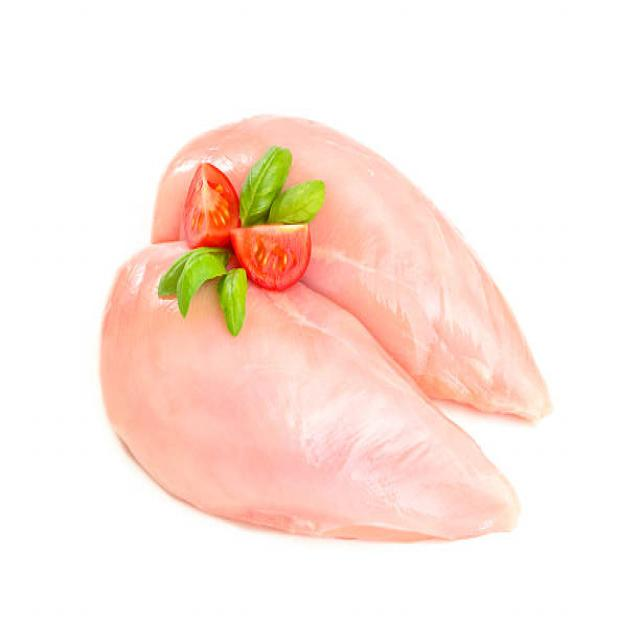chicken thigh: (82, 310, 458, 600), (323, 117, 574, 387)
